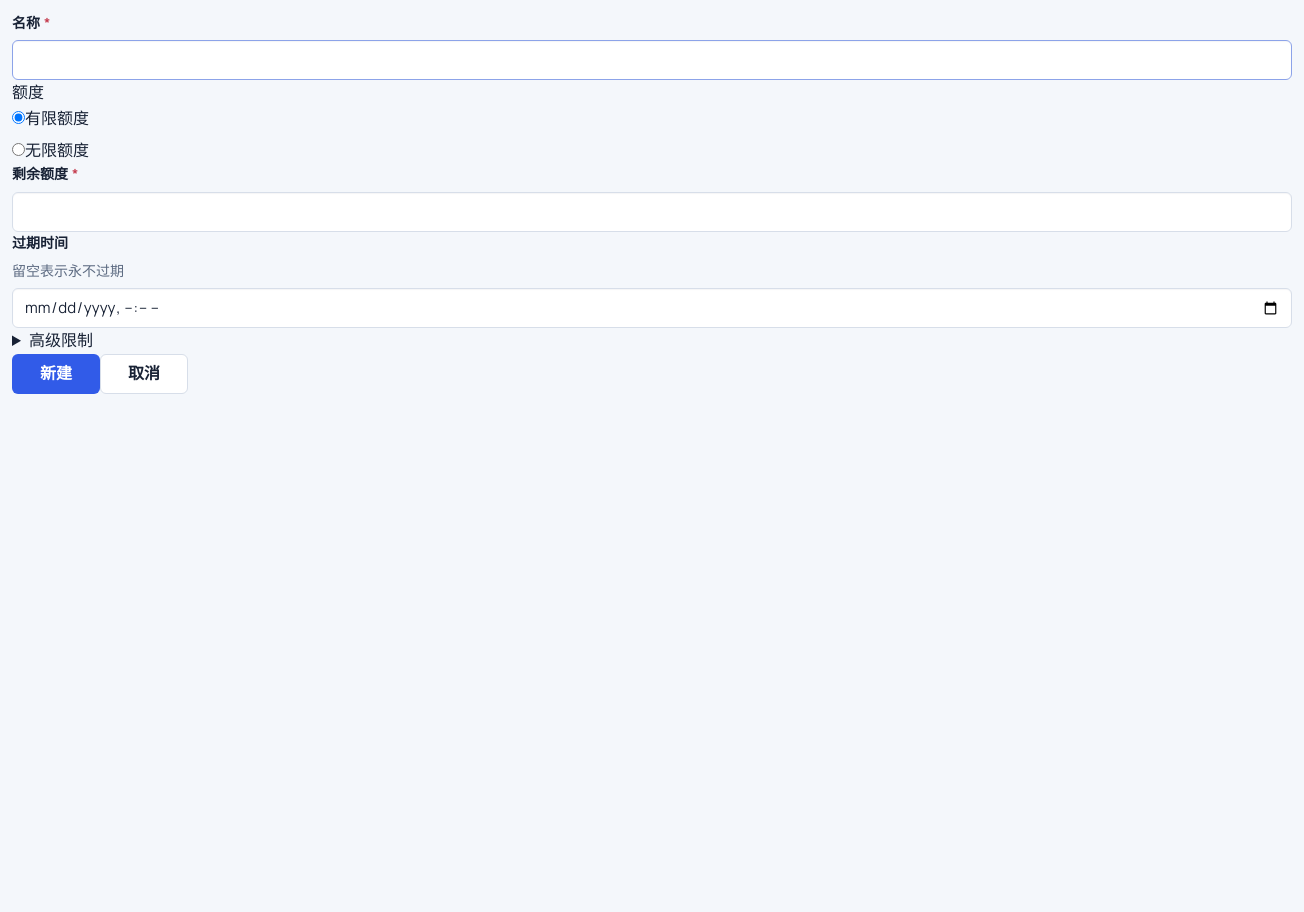
it: API Key 共享表单 › IP 字面量之外拒绝并提示
This screenshot has width=1304, height=912.
Check: the button "新建" is shown, box [12,354,100,394]
Click the heading "高级限制" at (61, 340), box [29,329,93,351]
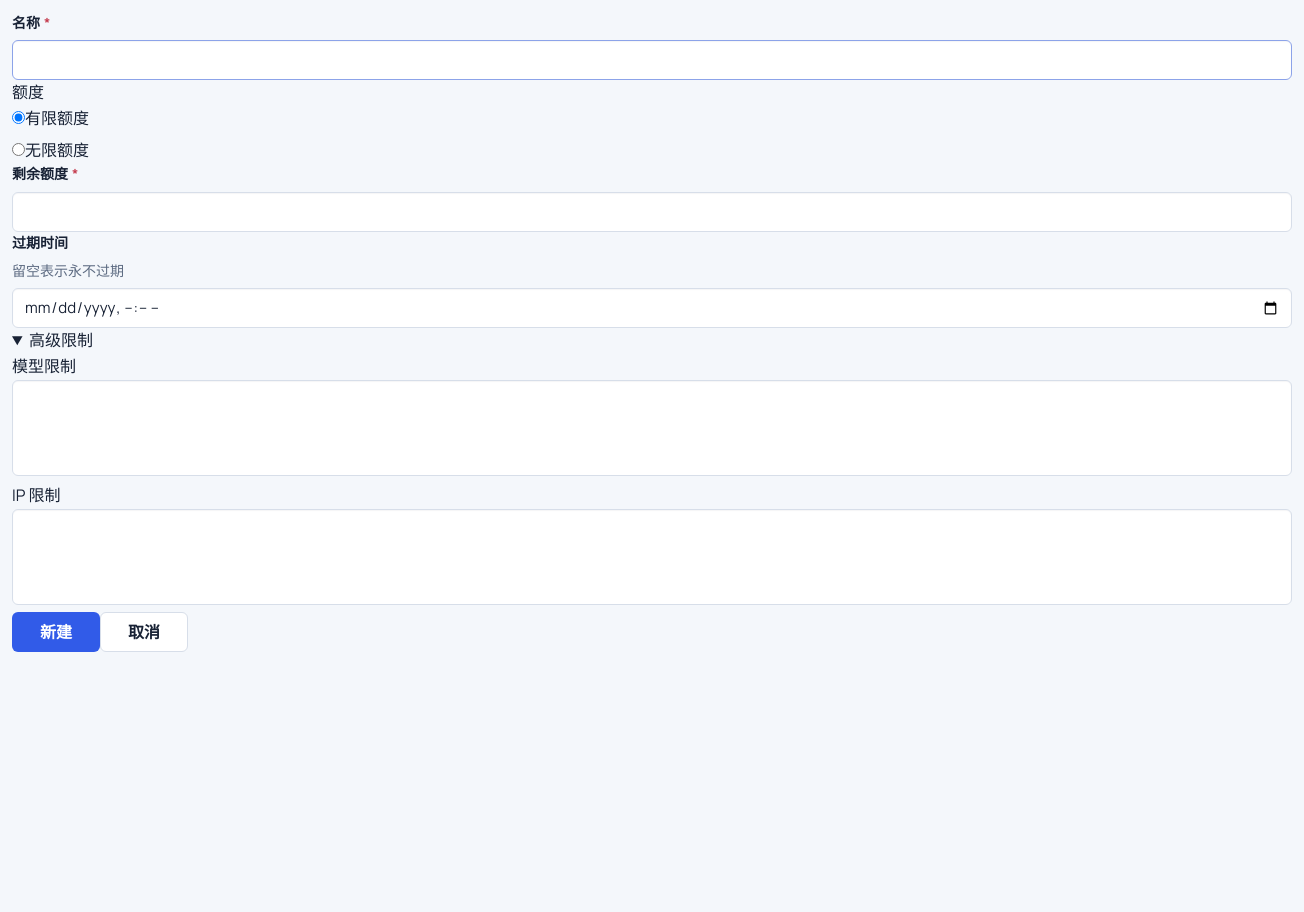
Type "probe" into the field labelled "名称" at (652, 60), box [12,40,1292,80]
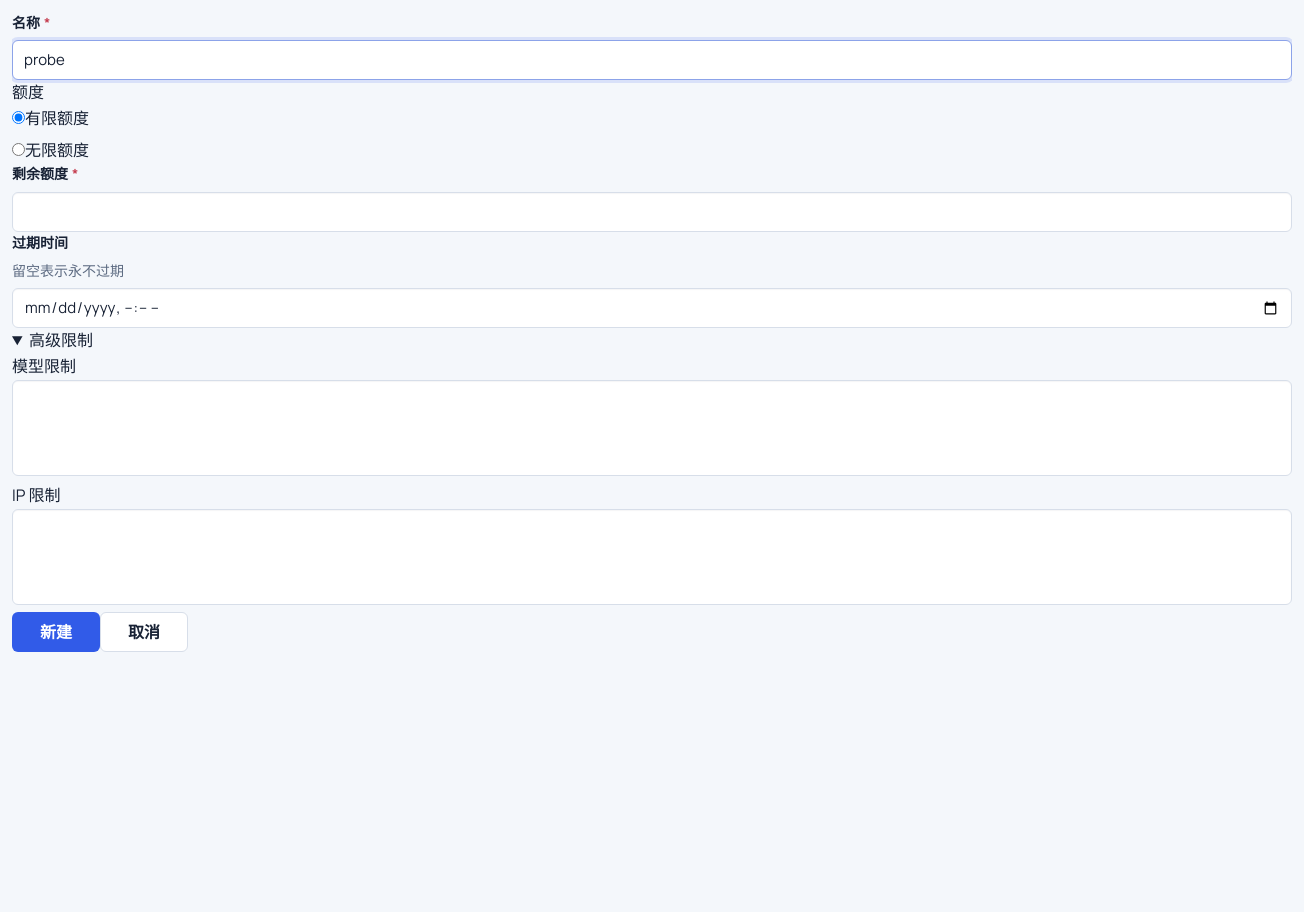
Type "100" into the field labelled "剩余额度" at (652, 212), box [12,192,1292,232]
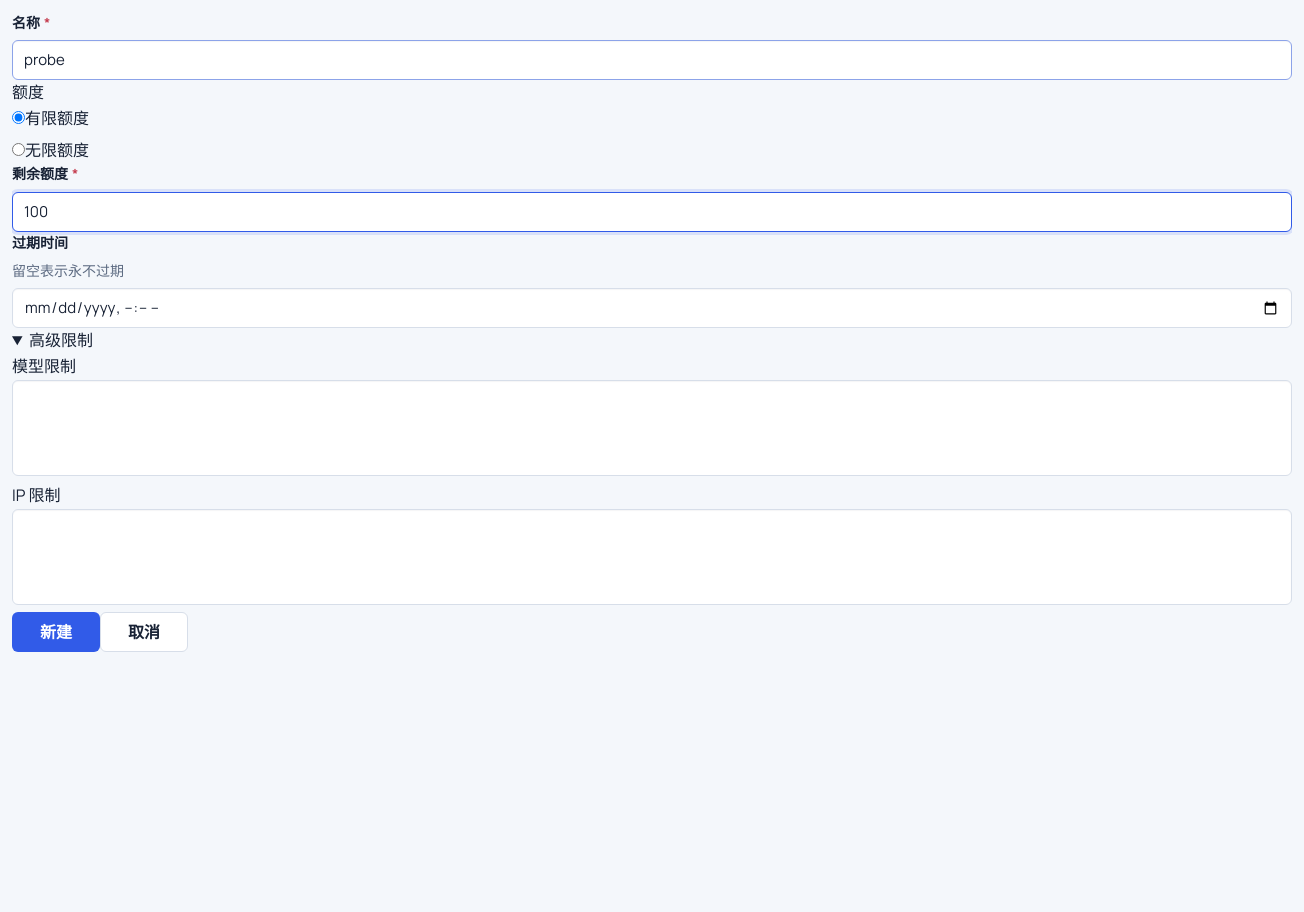
Type "example.com" into the text box labelled "IP 限制" at (652, 557), box [12,509,1292,605]
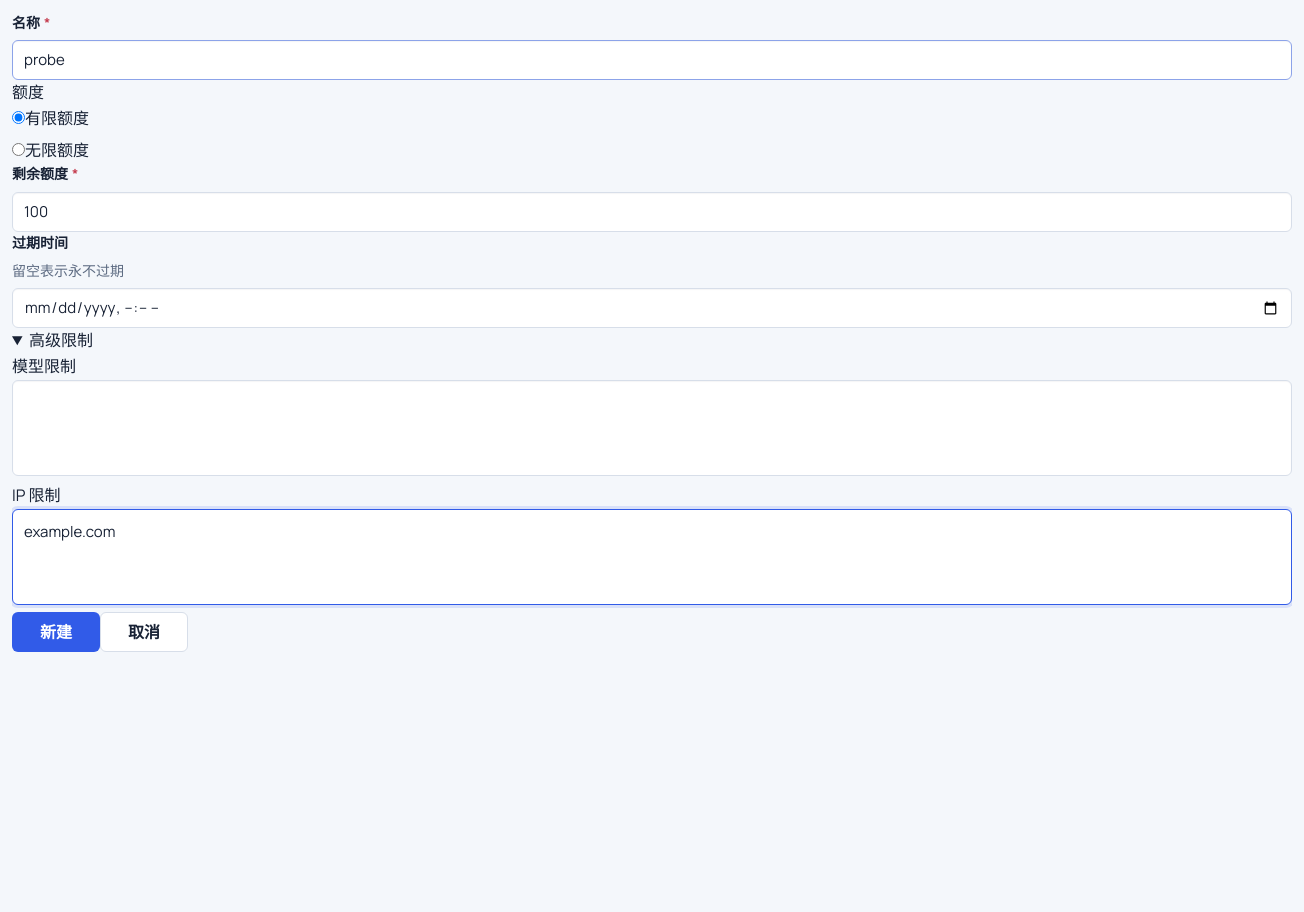
Click the button "新建" at (56, 632), box [12,612,100,652]
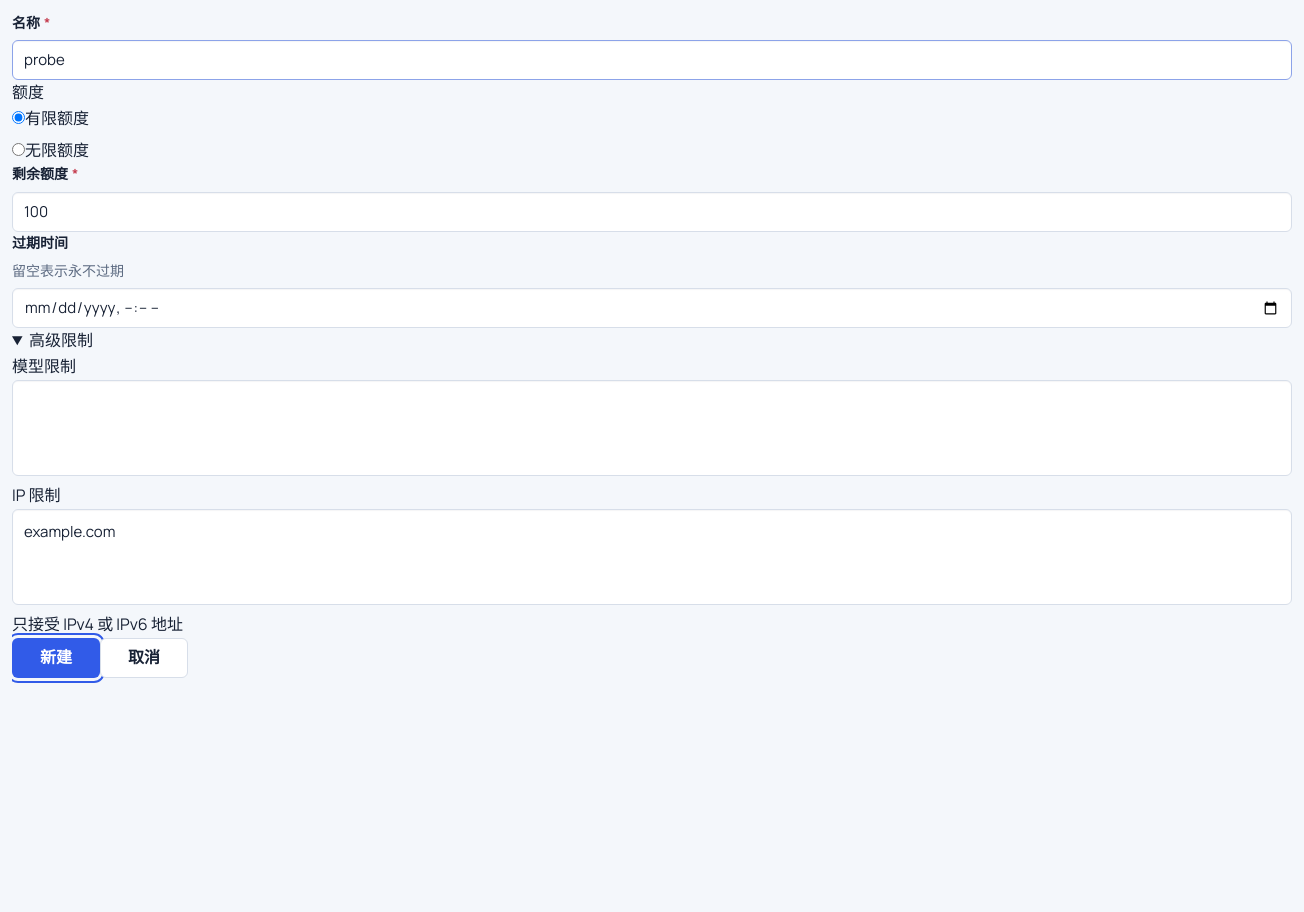
Check: the text "只接受 IPv4 或 IPv6 地址" is shown, box [12,613,183,635]
